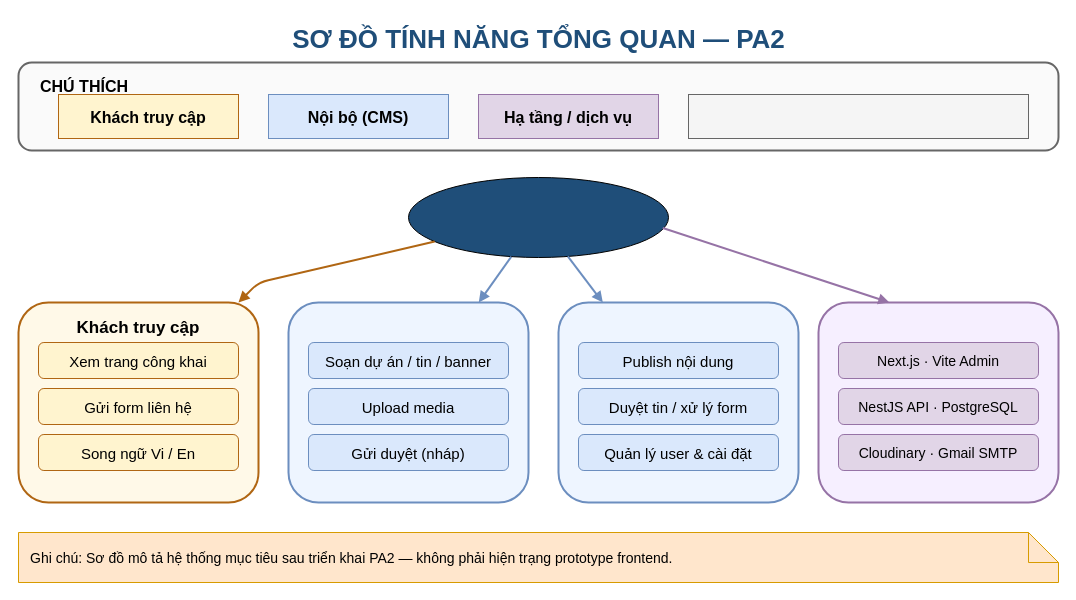
Some shapes in this 1076 by 600 pixel diagram are drawn without their labels. Here are the shapes that lost their labels. From the top down, the box of each, then its label:
(688, 94, 1028, 138): Mục tiêu PA2 (chưa có ở hiện trạng)
(408, 176, 668, 258): Website Thiên Đức Phương án 2
(287, 301, 529, 503): Editor
(557, 301, 799, 503): Admin / Super Admin
(817, 301, 1059, 503): Hạ tầng kỹ thuật
